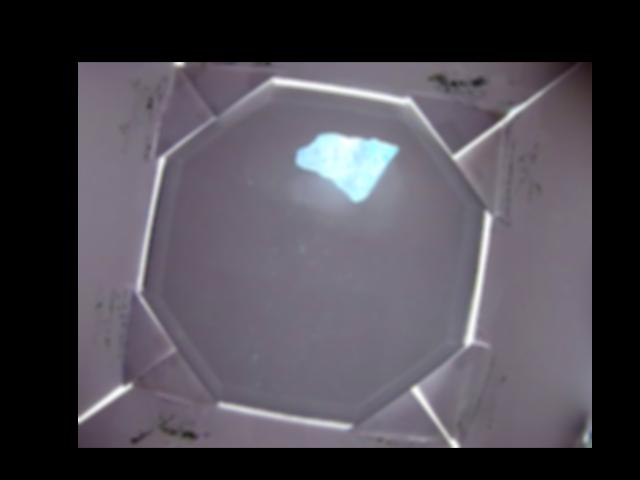Brisk: (296, 133, 399, 202)
